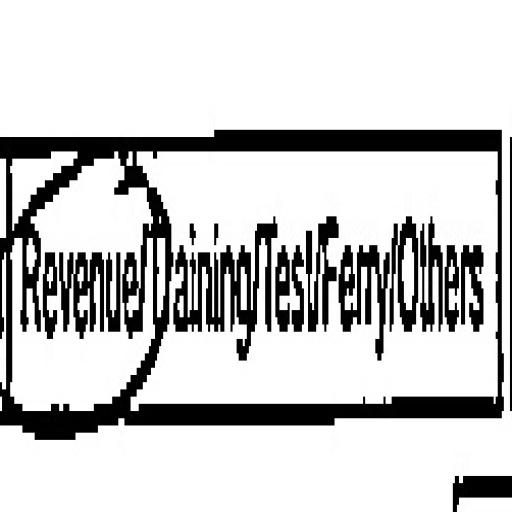check: (2, 57, 149, 495)
